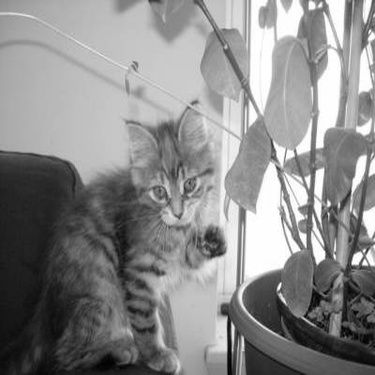cat: (2, 98, 227, 372)
